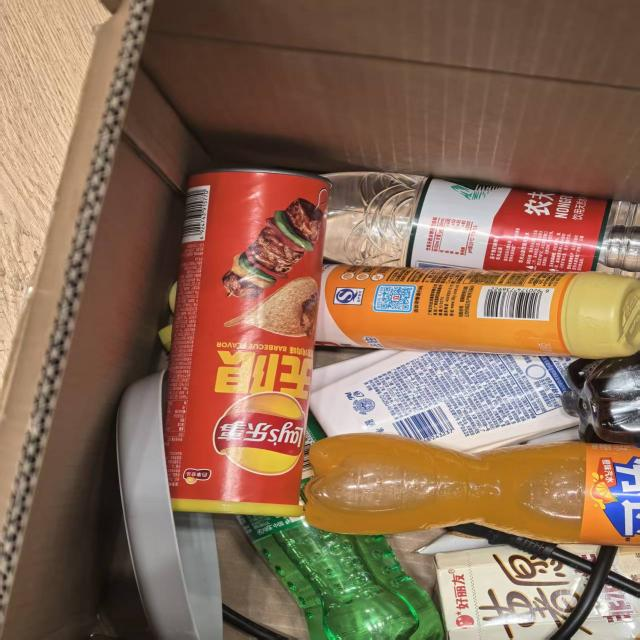orange: (594, 453, 640, 537)
